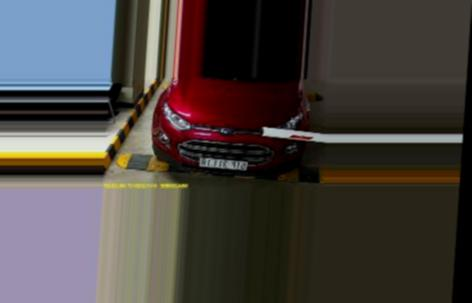License_Plate: (199, 156, 251, 172)
